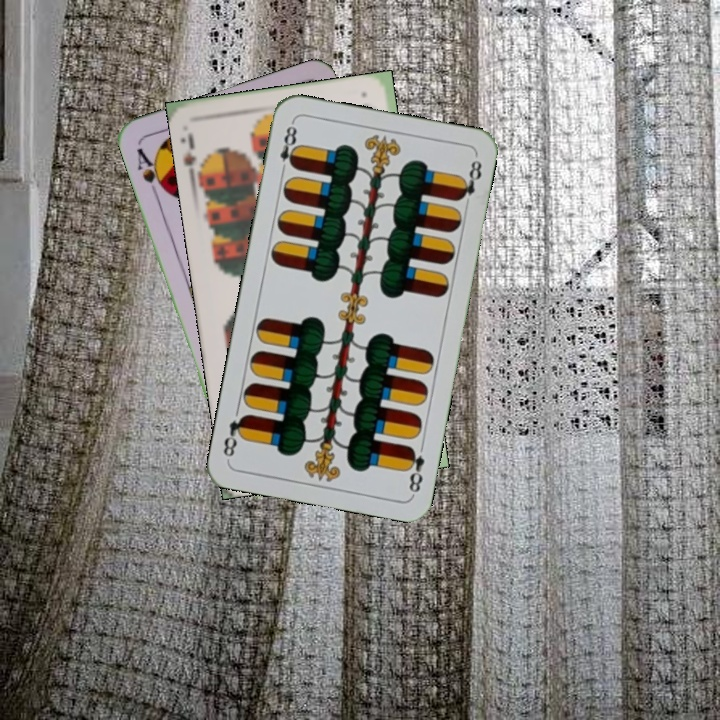E8: (275, 118, 301, 177), (401, 442, 427, 497)
S9: (177, 128, 209, 184)
SA: (132, 144, 170, 199)
